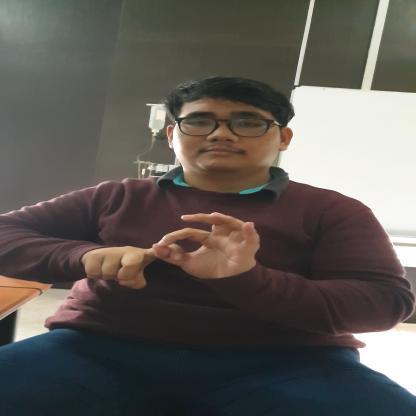Q: (76, 211, 265, 293)
